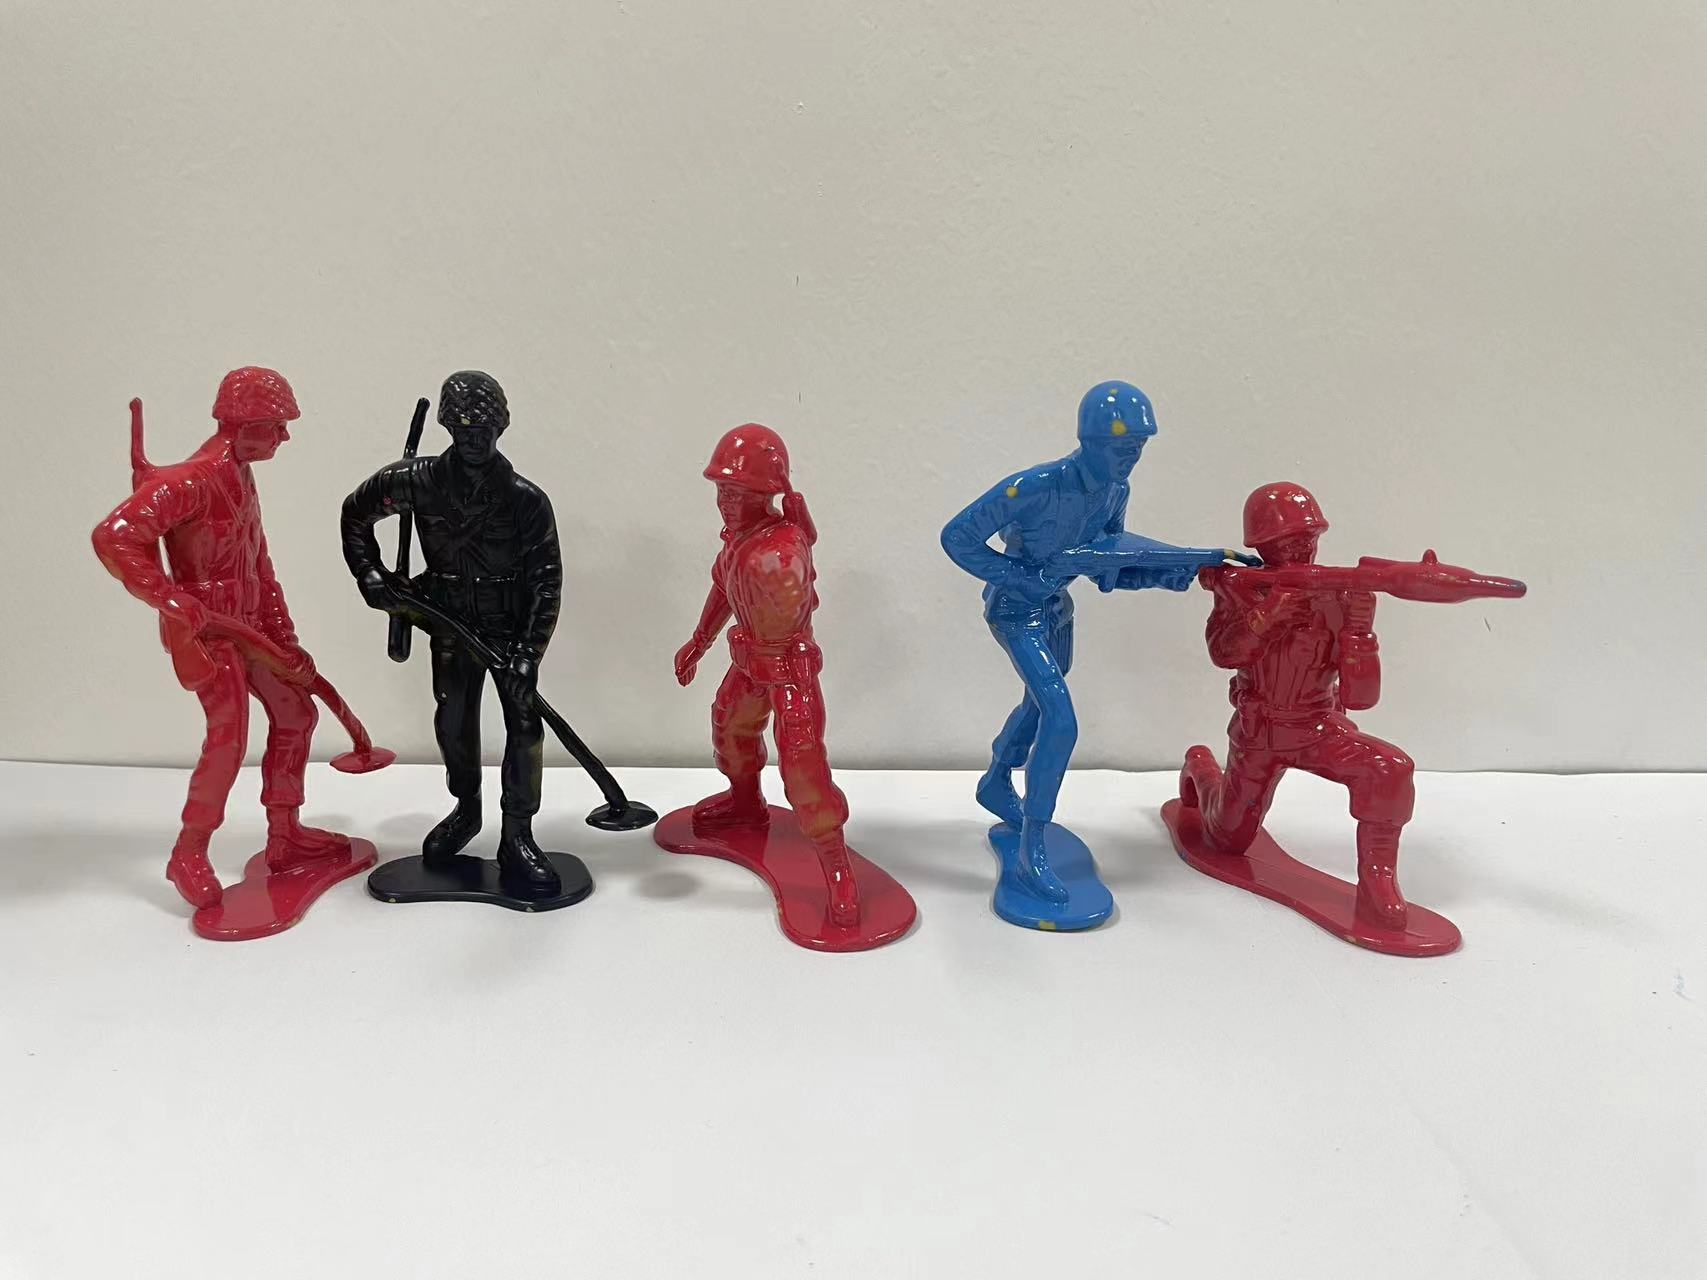black: (337, 360, 652, 943)
blue: (931, 337, 1198, 957)
red: (1200, 457, 1560, 977), (91, 340, 364, 969), (625, 409, 919, 984)
